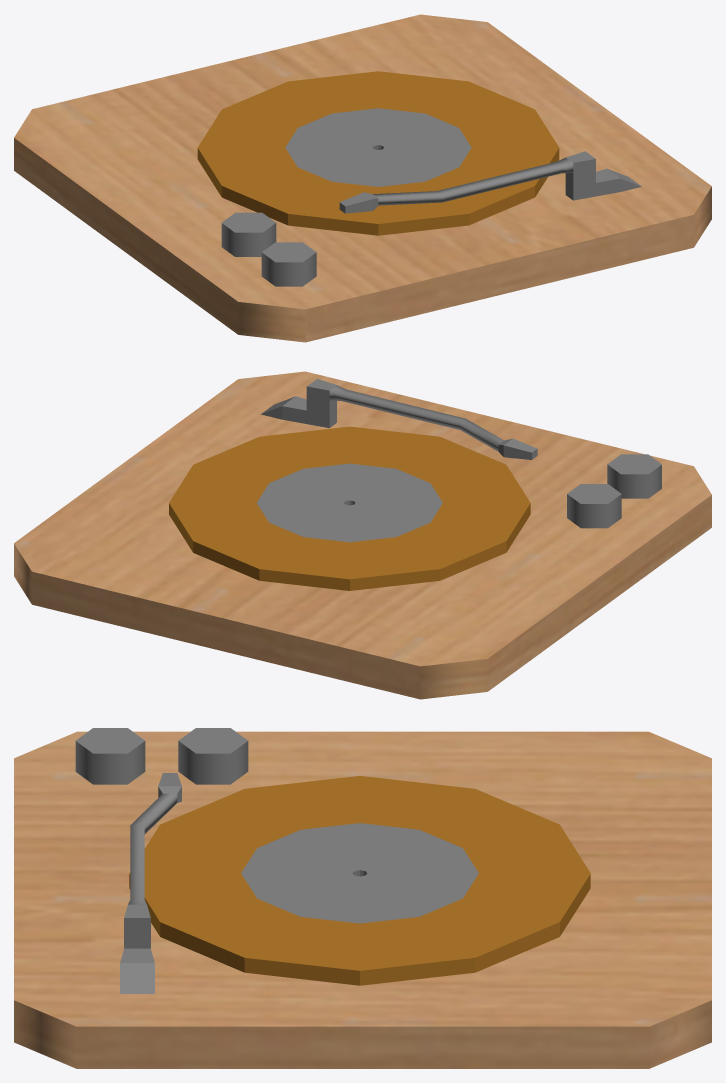
The model's file is vinyle.glb.
3 views of the same model, one above another, from view 1: azimuth 30°, elevation 25°; view 2: azimuth 150°, elevation 25°; view 3: azimuth 270°, elevation 25° (orthographic). The views are drawn at different scales.
Visible parts, largest first — view 1: Vinyl_Player_Base1_lambert3_0, Vinyl_Player_Disc1_lambert3_0, Vinyl_Player_Pin1_lambert3_0, Vinyl_Player_Knob1_lambert3_0, Vinyl_Player_Knob2_lambert3_0; view 2: Vinyl_Player_Base1_lambert3_0, Vinyl_Player_Disc1_lambert3_0, Vinyl_Player_Pin1_lambert3_0, Vinyl_Player_Knob2_lambert3_0, Vinyl_Player_Knob1_lambert3_0; view 3: Vinyl_Player_Base1_lambert3_0, Vinyl_Player_Disc1_lambert3_0, Vinyl_Player_Pin1_lambert3_0, Vinyl_Player_Knob2_lambert3_0, Vinyl_Player_Knob1_lambert3_0.
Boxes of the visible parts, x1=… form: Vinyl_Player_Base1_lambert3_0: x1=14, y1=14, x2=711, y2=342; Vinyl_Player_Disc1_lambert3_0: x1=197, y1=71, x2=559, y2=235; Vinyl_Player_Pin1_lambert3_0: x1=339, y1=151, x2=641, y2=213; Vinyl_Player_Knob1_lambert3_0: x1=261, y1=242, x2=316, y2=286; Vinyl_Player_Knob2_lambert3_0: x1=221, y1=212, x2=276, y2=256; Vinyl_Player_Base1_lambert3_0: x1=14, y1=371, x2=711, y2=699; Vinyl_Player_Disc1_lambert3_0: x1=169, y1=426, x2=530, y2=590; Vinyl_Player_Pin1_lambert3_0: x1=261, y1=379, x2=537, y2=459; Vinyl_Player_Knob2_lambert3_0: x1=567, y1=484, x2=621, y2=528; Vinyl_Player_Knob1_lambert3_0: x1=607, y1=454, x2=661, y2=498; Vinyl_Player_Base1_lambert3_0: x1=14, y1=731, x2=711, y2=1068; Vinyl_Player_Disc1_lambert3_0: x1=129, y1=776, x2=590, y2=985; Vinyl_Player_Pin1_lambert3_0: x1=120, y1=773, x2=181, y2=993; Vinyl_Player_Knob2_lambert3_0: x1=178, y1=728, x2=248, y2=784; Vinyl_Player_Knob1_lambert3_0: x1=75, y1=728, x2=145, y2=784.
Bounding box in the file's own units: 0.6 × 0.0869 × 0.6.
1 material, 1 textured.
